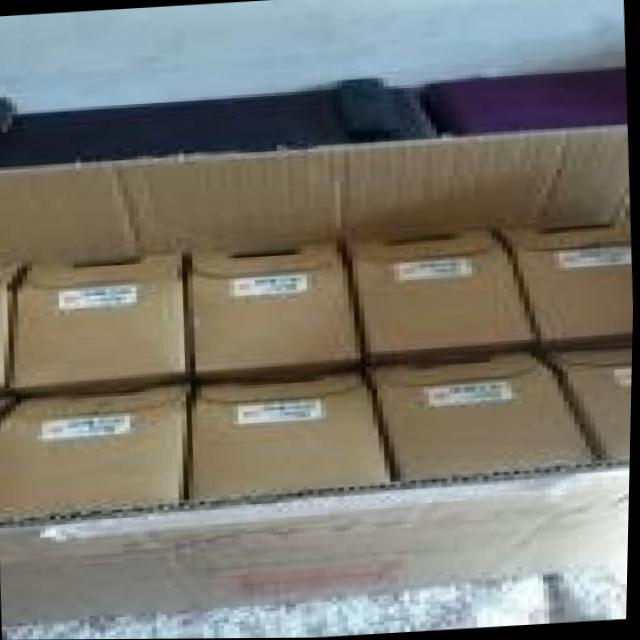box: (0, 126, 633, 621), (362, 352, 607, 478), (188, 368, 397, 499), (188, 235, 372, 382), (14, 247, 192, 397), (353, 225, 545, 364), (2, 385, 195, 517), (501, 213, 631, 351), (540, 346, 633, 462), (4, 262, 34, 391)
